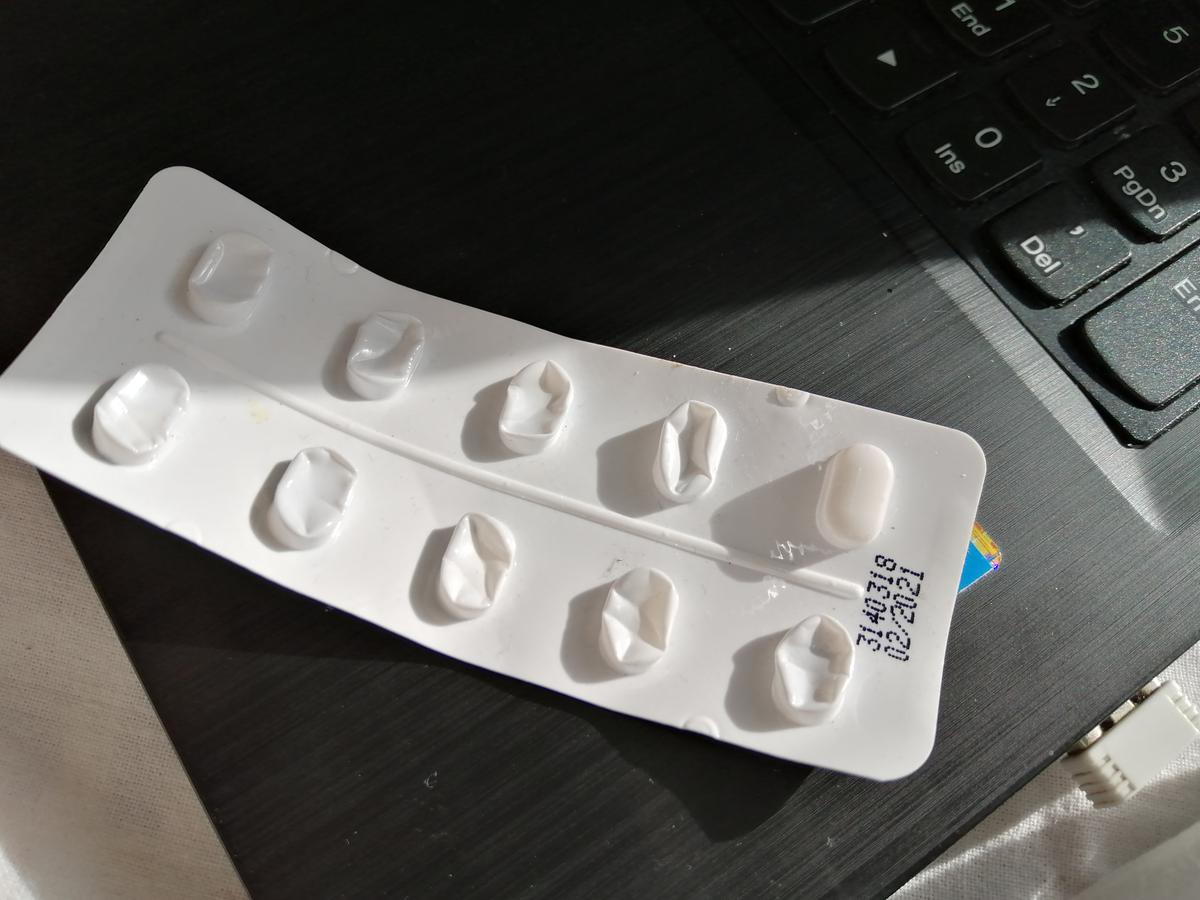tablet: (815, 436, 895, 548)
